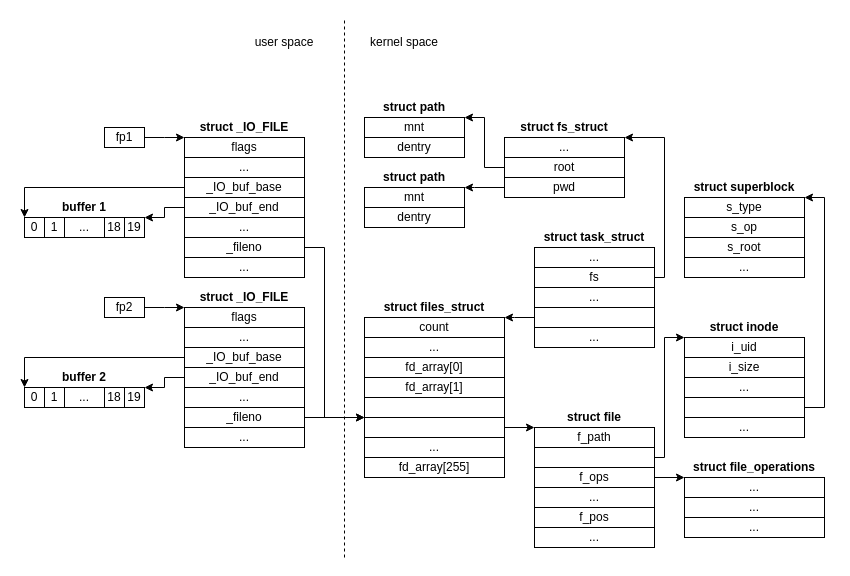
The diagram is 850 pixels wide and 576 high, and some of its shapes have lost their labels. The shapes that lost their labels are listed below. From the top down, each one's centre as x and y in pixels, then its label:
At (x=594, y=317): "files".
At (x=434, y=407): "fd_array[2]".
At (x=434, y=427): "fd_array[3]".
At (x=744, y=407): "i_sb".
At (x=594, y=457): "f_inode".
